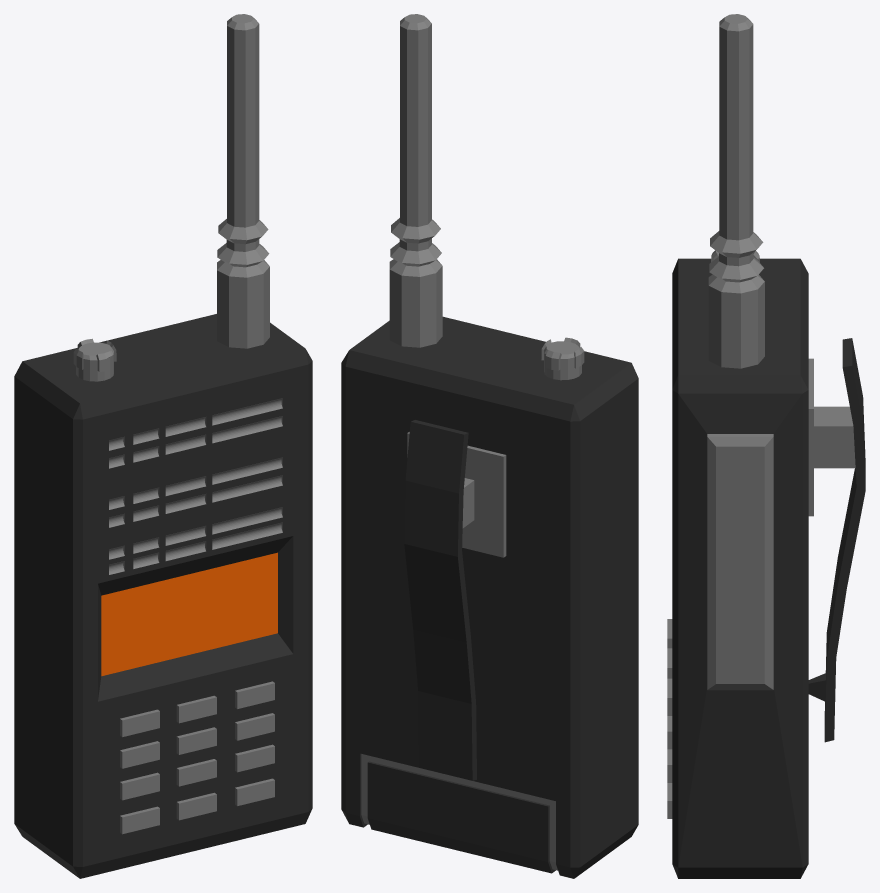
Rendered from HT Only.fbx.
3 renders of one model, left to right at view 1: azimuth 30°, elevation 25°; view 2: azimuth 150°, elevation 25°; view 3: azimuth 270°, elevation 25°, orthographic. The views are drawn at different scales.
Visible parts, largest first — view 1: Cube; view 2: Cube; view 3: Cube.
Boxes of the visible parts, bbox=[...] form: Cube: bbox=[14, 14, 312, 878]; Cube: bbox=[341, 14, 638, 878]; Cube: bbox=[667, 14, 865, 878].
Bounding box in the file's own units: 14.88 × 44.41 × 9.49.
